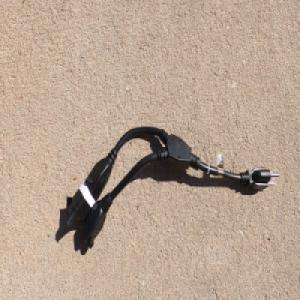Wire: (65, 125, 280, 248)
